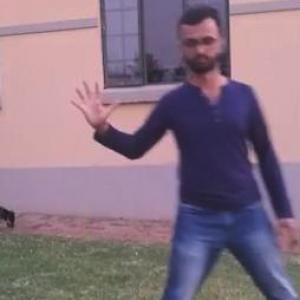follow_hand: (67, 72, 123, 130)
